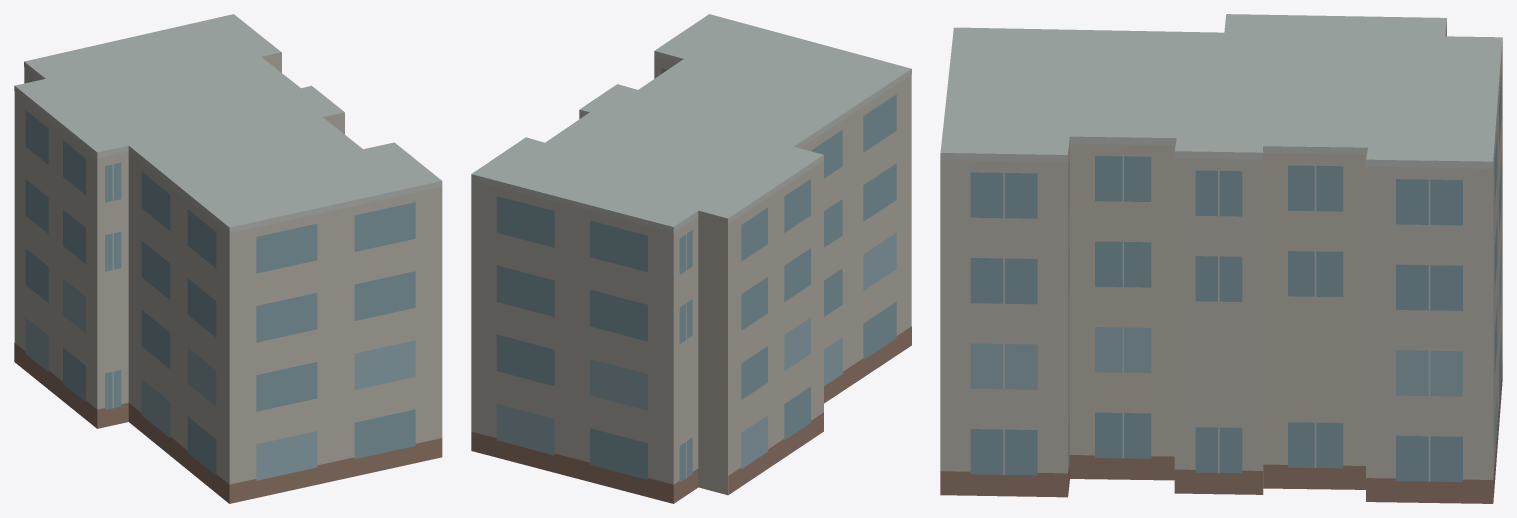
The model's file is survey-upis-32707628.glb.
3 renders of one model, left to right at view 1: azimuth 30°, elevation 25°; view 2: azimuth 150°, elevation 25°; view 3: azimuth 270°, elevation 25°, orthographic. The views are drawn at different scales.
Parts seen in each view (by area): view 1: survey-upis-32707628.tmp; view 2: survey-upis-32707628.tmp; view 3: survey-upis-32707628.tmp.
Boxes of the visible parts, left/top/right/bottom form: survey-upis-32707628.tmp: left=14, top=14, right=442, bottom=503; survey-upis-32707628.tmp: left=471, top=14, right=911, bottom=503; survey-upis-32707628.tmp: left=940, top=14, right=1502, bottom=503.
Size of the model in its own units: 10.83 by 11.7 by 17.43.
